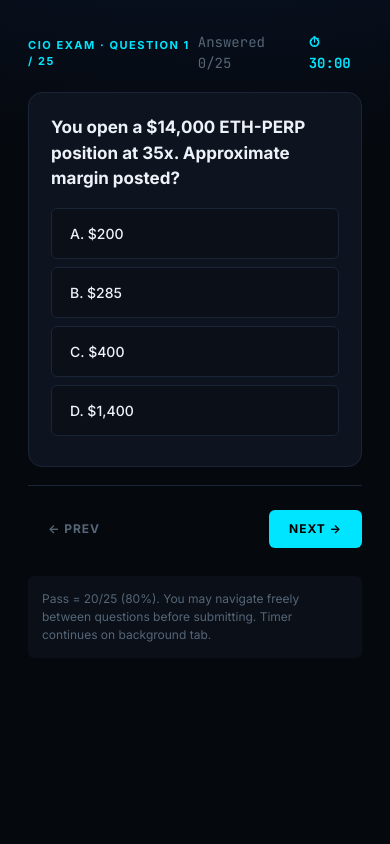
Scenario: ExamView › records answer when option clicked
The image size is (390, 844).
Click the button "A. $200" at (106, 233), box [51,208,339,258]
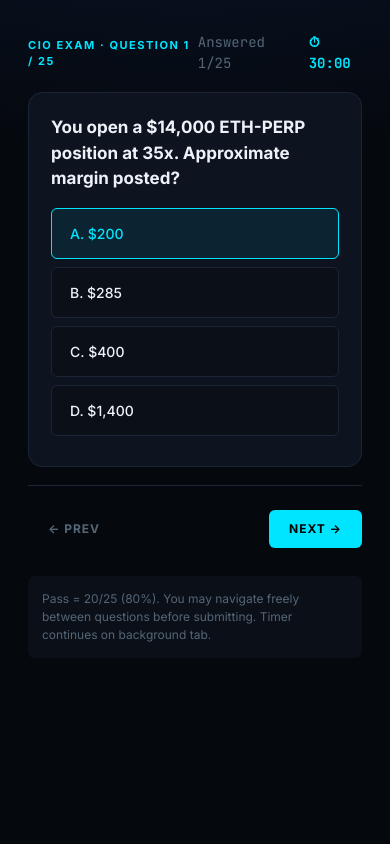
Check: the text "Answered 1/25" is shown, box [198,33,265,72]
